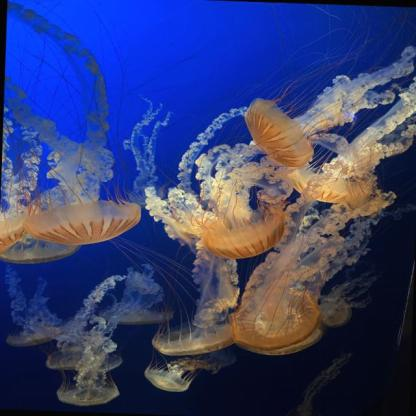jellyfish: (227, 288, 327, 360), (25, 194, 143, 248), (242, 94, 316, 166), (202, 204, 287, 262), (284, 157, 370, 206), (150, 315, 236, 358), (0, 234, 70, 266), (42, 347, 120, 375), (94, 303, 184, 326), (0, 214, 33, 269), (51, 380, 123, 404), (140, 366, 194, 393), (4, 324, 60, 350), (316, 298, 358, 325)
